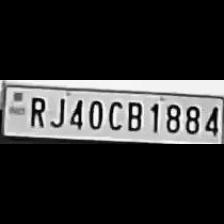0: (84, 96, 104, 130)
1: (144, 99, 162, 133)
4: (66, 95, 86, 129), (202, 101, 220, 135)
8: (161, 100, 181, 134), (182, 100, 200, 134)
B: (122, 98, 144, 132)
C: (104, 97, 122, 131)
J: (48, 94, 66, 128)
R: (25, 92, 47, 128)
